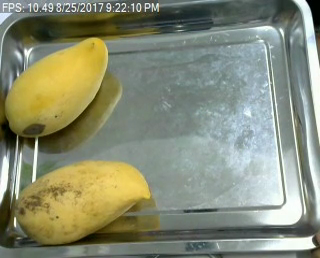Mango: (10, 158, 150, 247), (2, 35, 109, 137)
